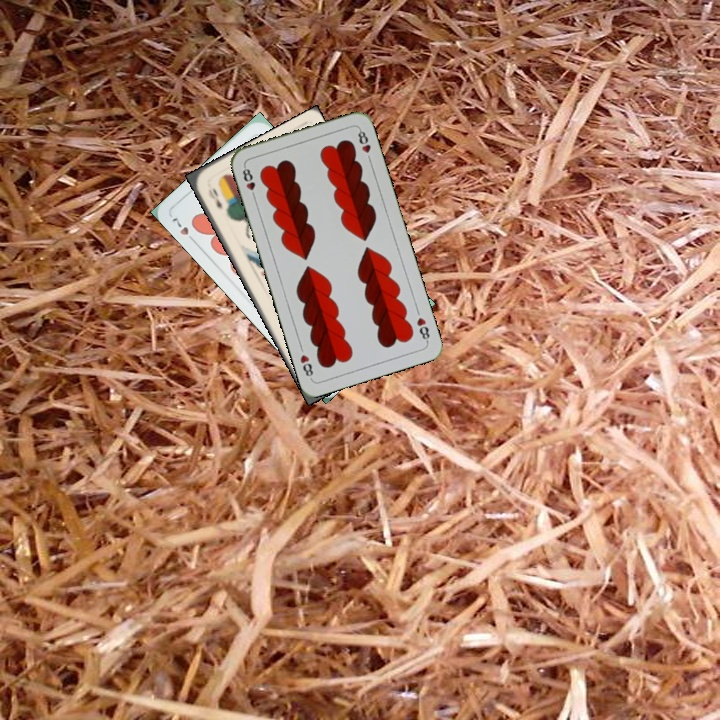EO: (204, 183, 225, 211)
H7: (167, 213, 199, 246)
H8: (238, 162, 259, 202), (413, 313, 432, 345)
